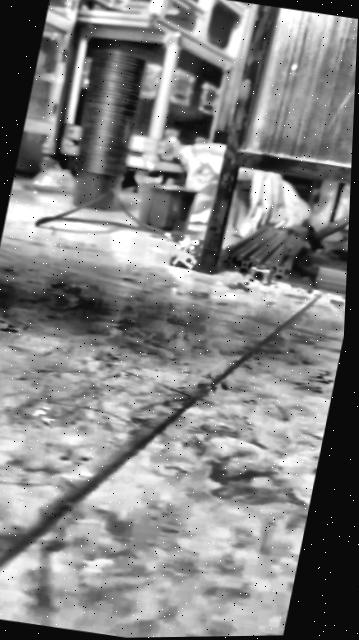pot: (132, 181, 198, 237)
